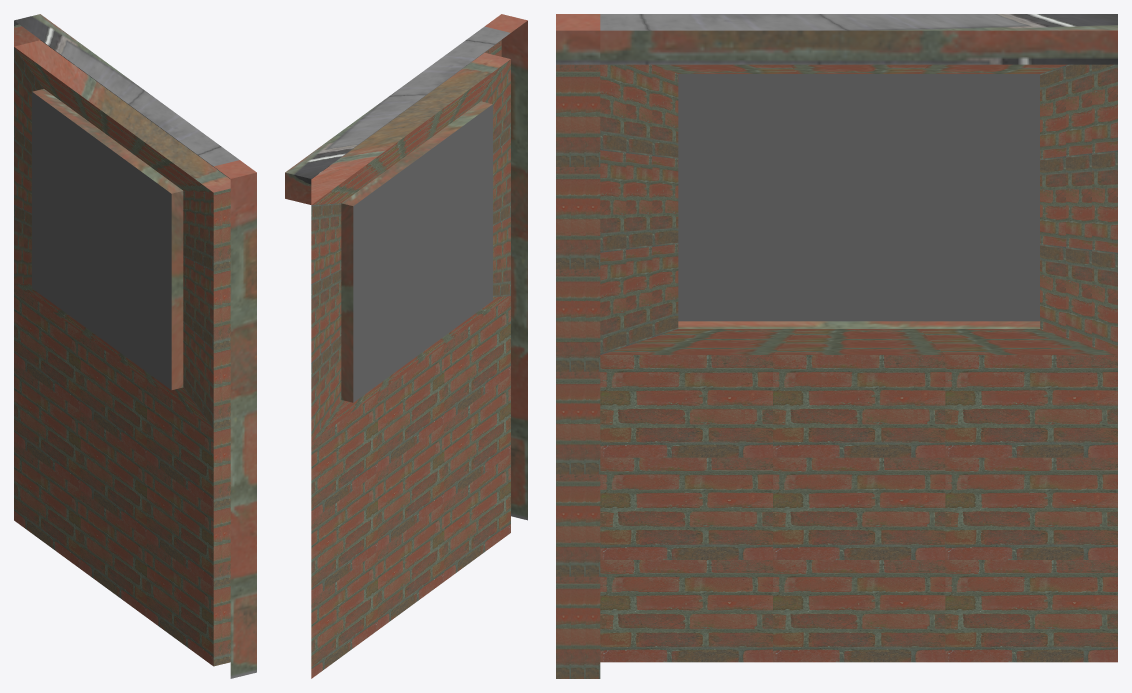
The model's file is Building1.fbx.
The picture shows the model from 3 angles, left to right: view 1: azimuth 30°, elevation 25°; view 2: azimuth 150°, elevation 25°; view 3: azimuth 270°, elevation 25°; orthographic projection. The views are drawn at different scales.
Parts seen in each view (by area): view 1: Building; view 2: Building; view 3: Building.
Boxes of the visible parts, <box> form: Building: <box>14,14,256,678</box>; Building: <box>285,14,527,678</box>; Building: <box>556,14,1117,678</box>.
Bounding box in the file's own units: 22.02 × 274 × 215.
